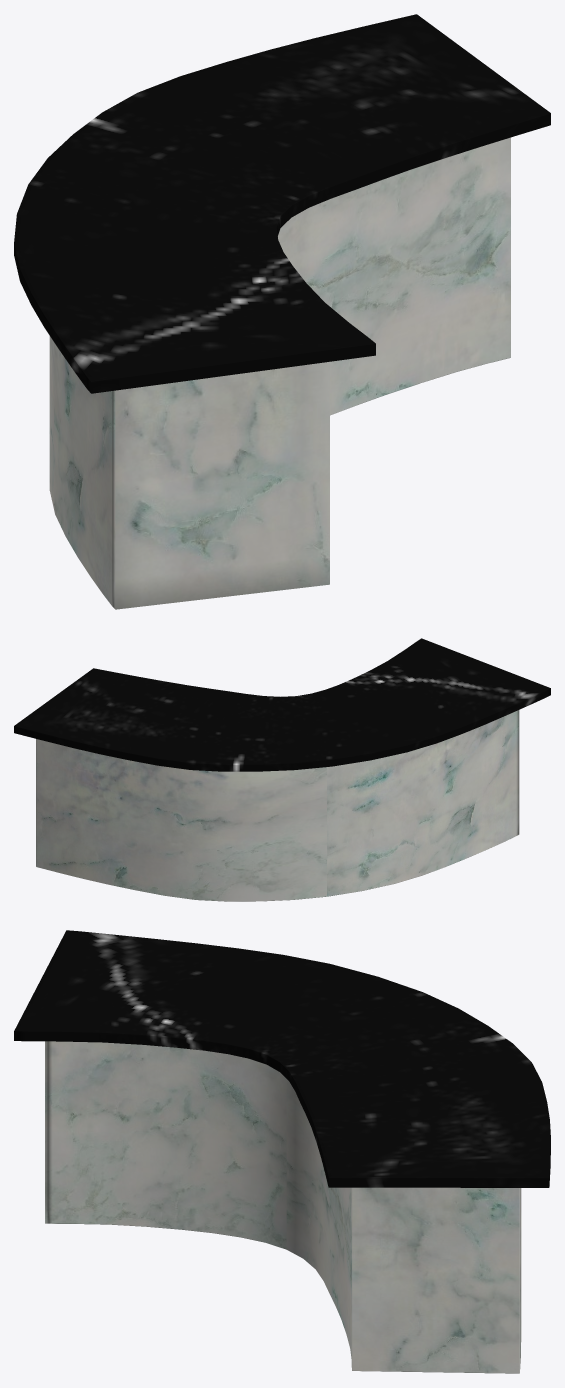
Rendered from Recepcion.obj.
The picture shows the model from 3 angles, top to bottom: view 1: azimuth 30°, elevation 25°; view 2: azimuth 150°, elevation 25°; view 3: azimuth 270°, elevation 25°; orthographic projection. The views are drawn at different scales.
Parts seen in each view (by area): view 1: Reception_table; view 2: Reception_table; view 3: Reception_table.
Part boxes in pixels (x1,y1,x2,y2): Reception_table: [14, 14, 550, 609]; Reception_table: [14, 638, 550, 901]; Reception_table: [14, 930, 550, 1373].
Bounding box in the file's own units: 17.72 × 6.79 × 16.22.
2 materials, 2 textured.
